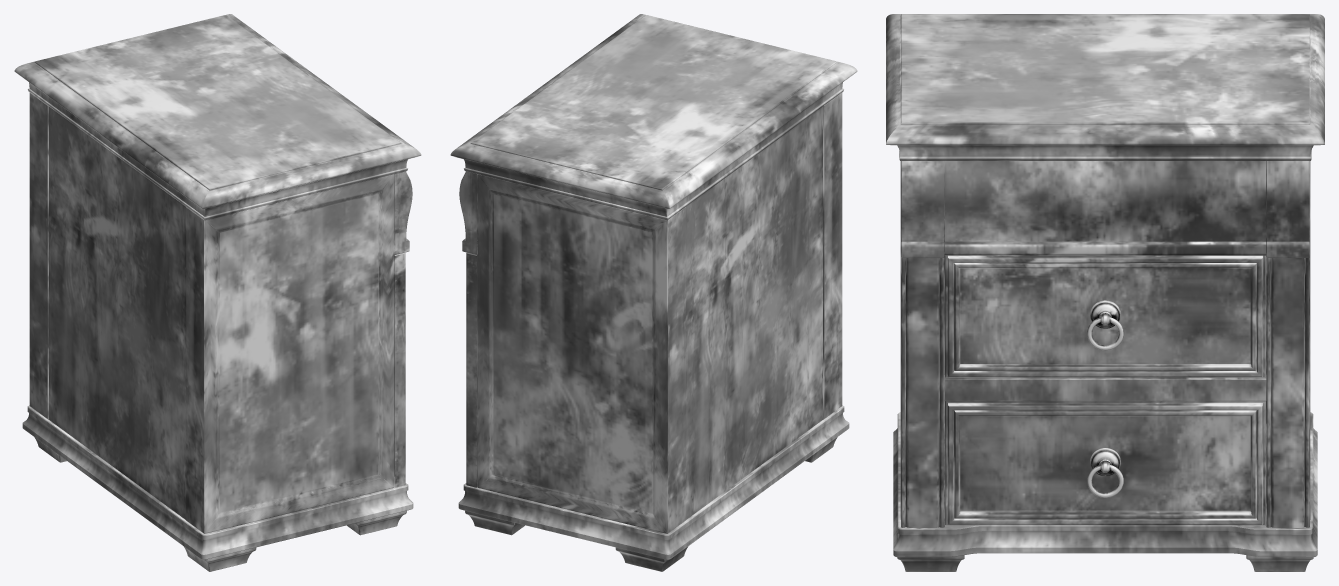
File: basic_drawer.obj
3 views of the same model, side by side, from view 1: azimuth 30°, elevation 25°; view 2: azimuth 150°, elevation 25°; view 3: azimuth 270°, elevation 25° (orthographic). The views are drawn at different scales.
Parts seen in each view (by area): view 1: Plane.002_Plane.002; view 2: Plane.002_Plane.002; view 3: Plane.002_Plane.002.
Part boxes in pixels (x1,y1,x2,y2): Plane.002_Plane.002: [14, 14, 421, 571]; Plane.002_Plane.002: [450, 14, 857, 571]; Plane.002_Plane.002: [886, 14, 1324, 571].
Bounding box in the file's own units: 3.82 × 6.41 × 5.66.
